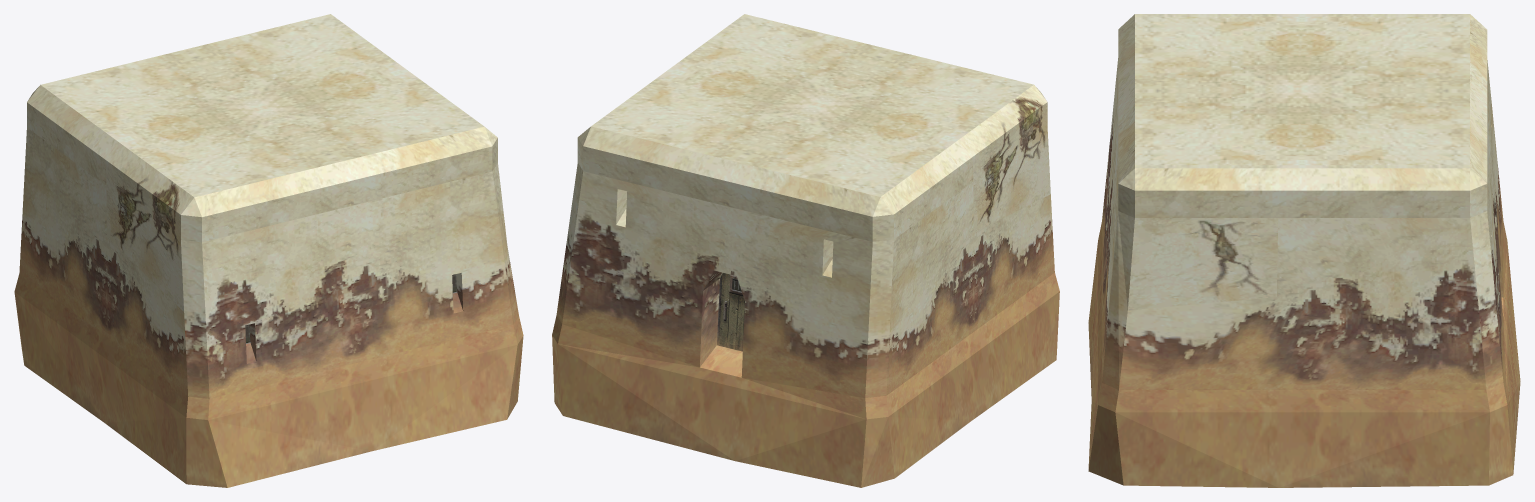
File: C2SMCITY1H.obj
The picture shows the model from 3 angles, left to right: view 1: azimuth 30°, elevation 25°; view 2: azimuth 150°, elevation 25°; view 3: azimuth 270°, elevation 25°; orthographic projection. The views are drawn at different scales.
Parts seen in each view (by area): view 1: Node 0; view 2: Node 0; view 3: Node 0.
Part boxes in pixels (x1,y1,x2,y2): Node 0: (14,14,523,487); Node 0: (552,14,1059,487); Node 0: (1088,14,1520,487).
Bounding box in the file's own units: 12.04 × 9.41 × 12.18.
3 materials, 3 textured.
